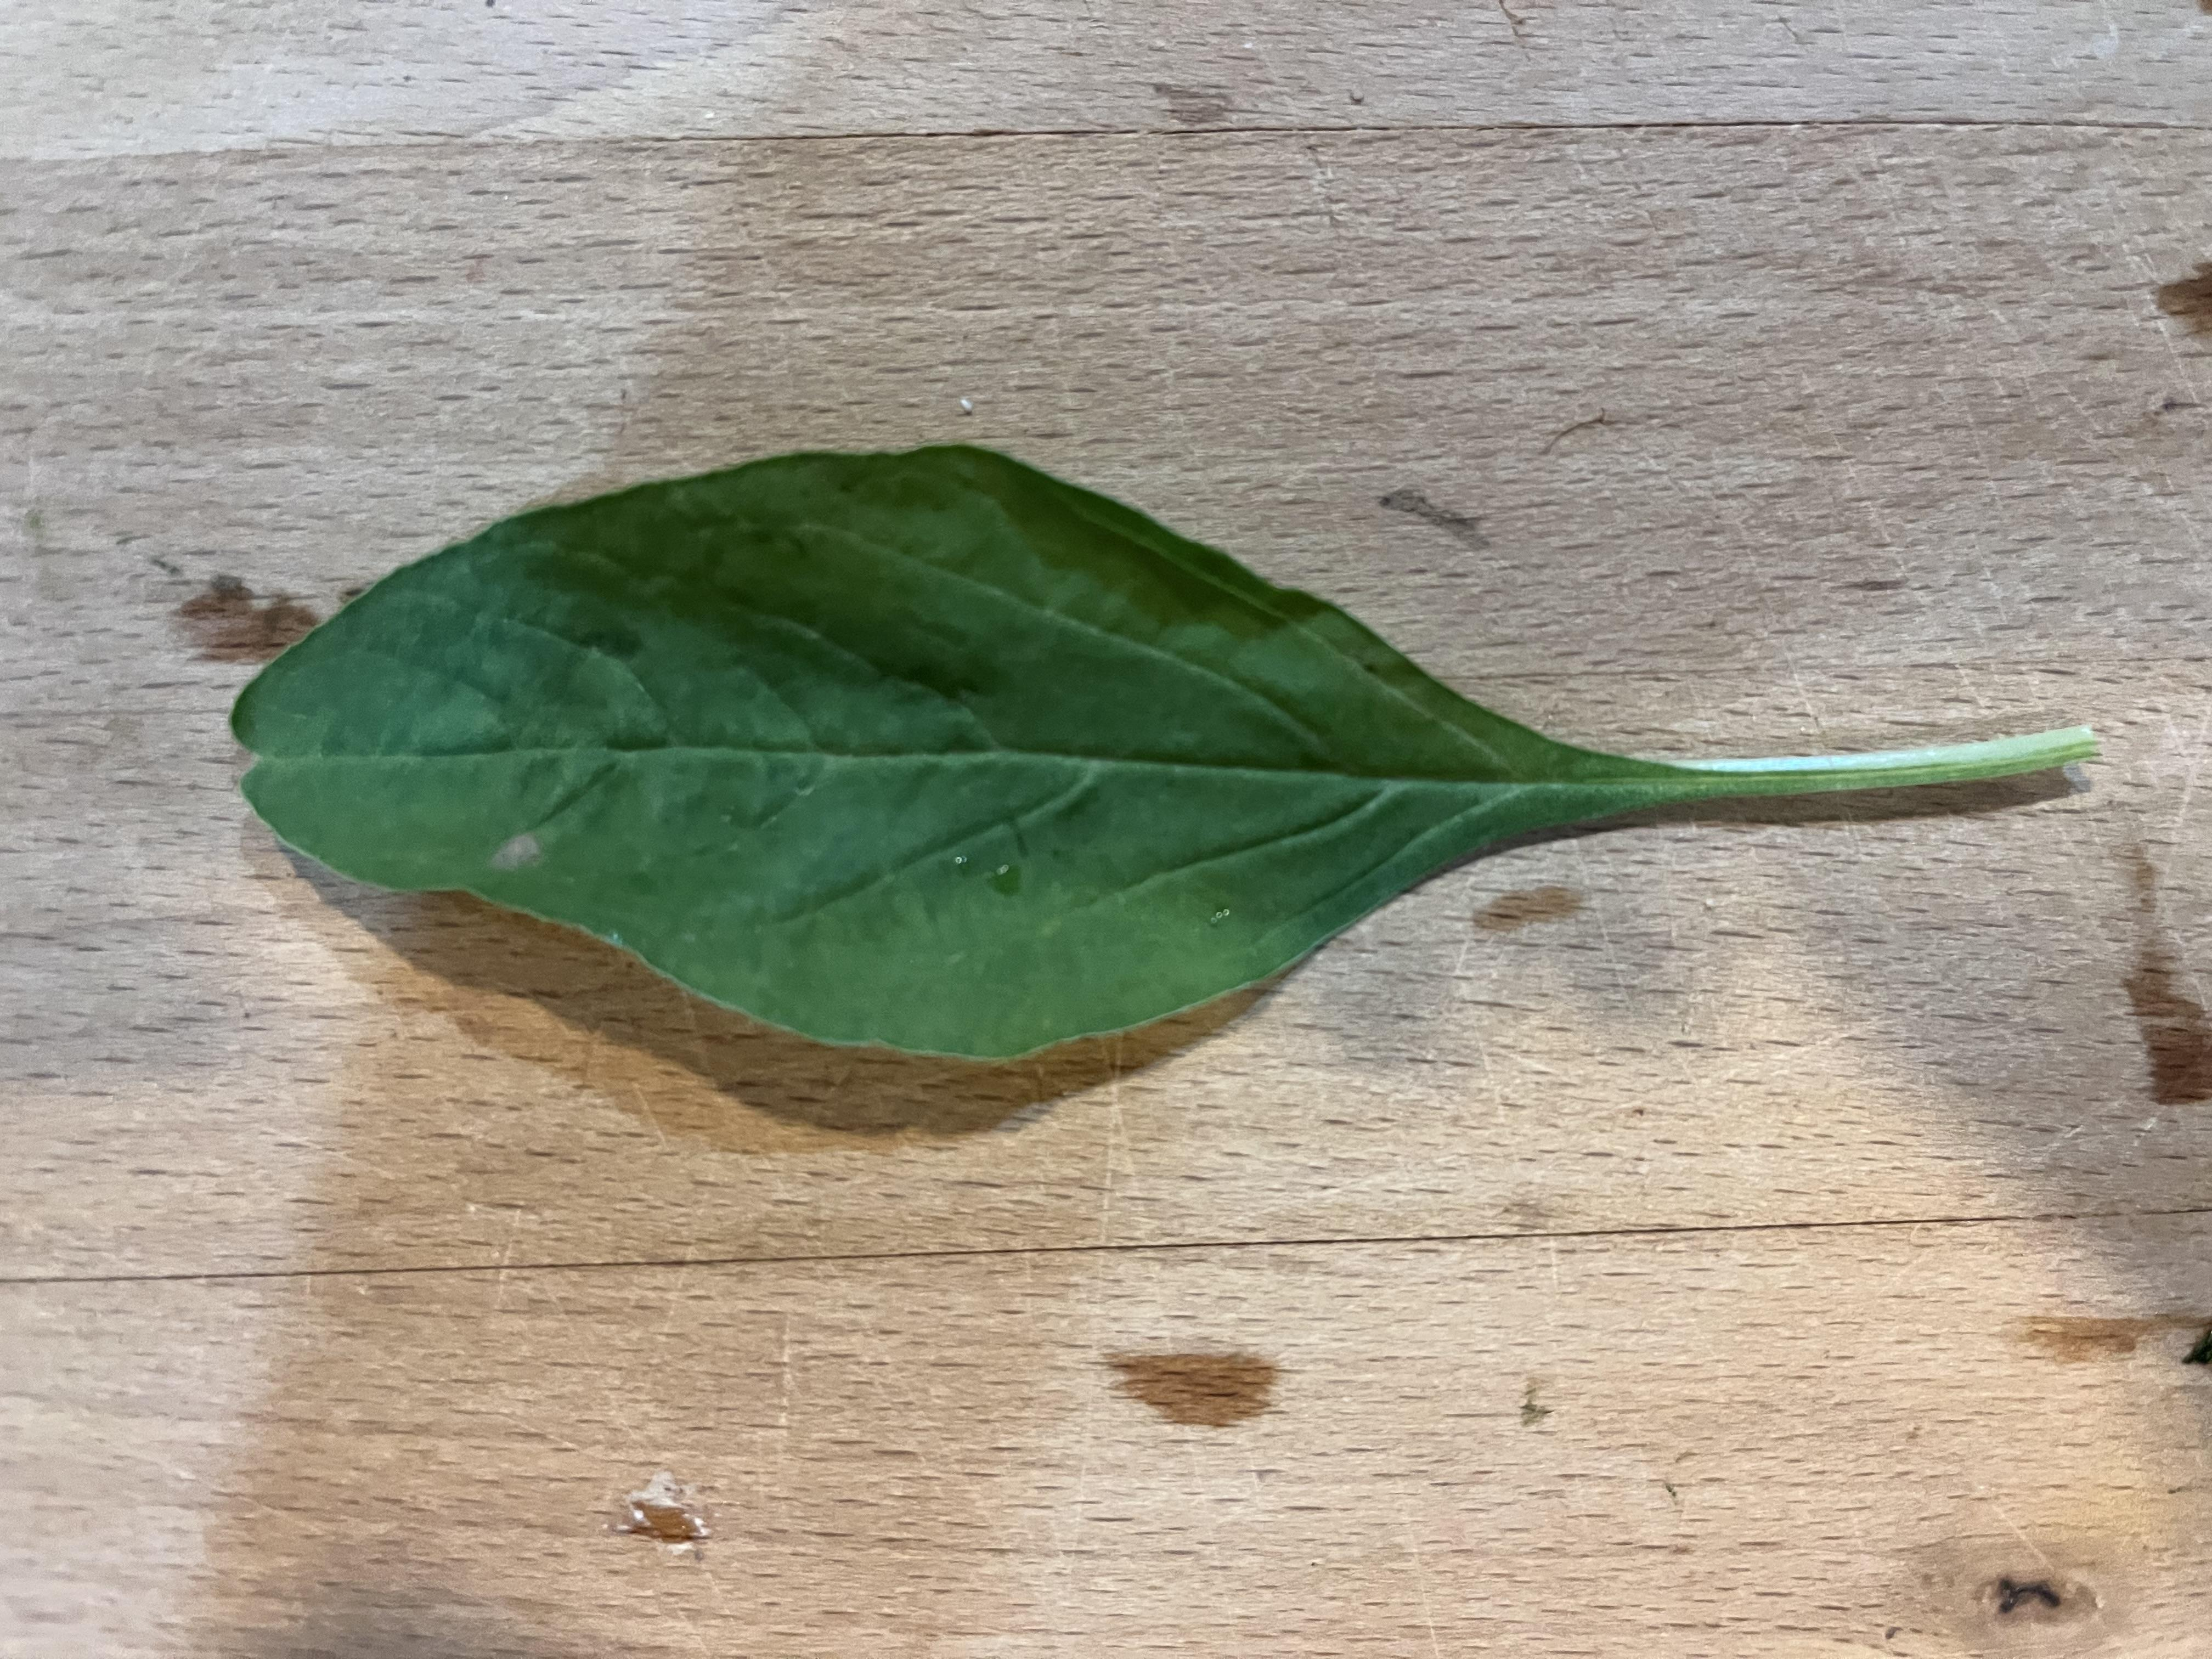Healthy-Pechay: (230, 357, 2057, 1190)
